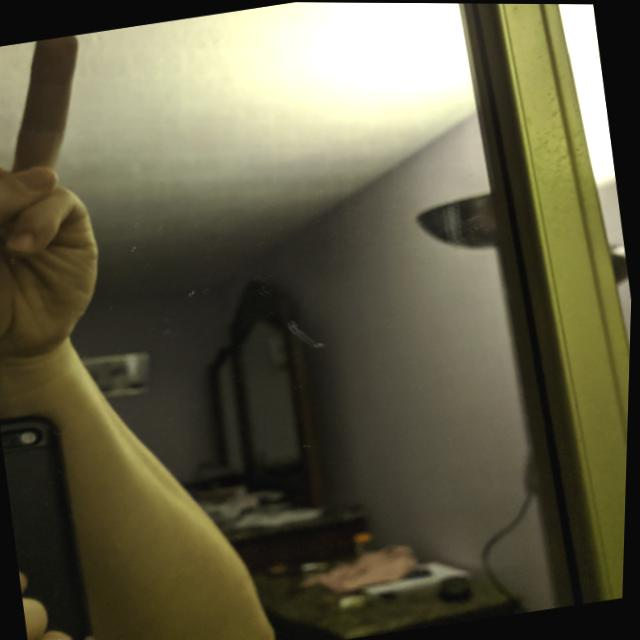W: (0, 33, 135, 377)
